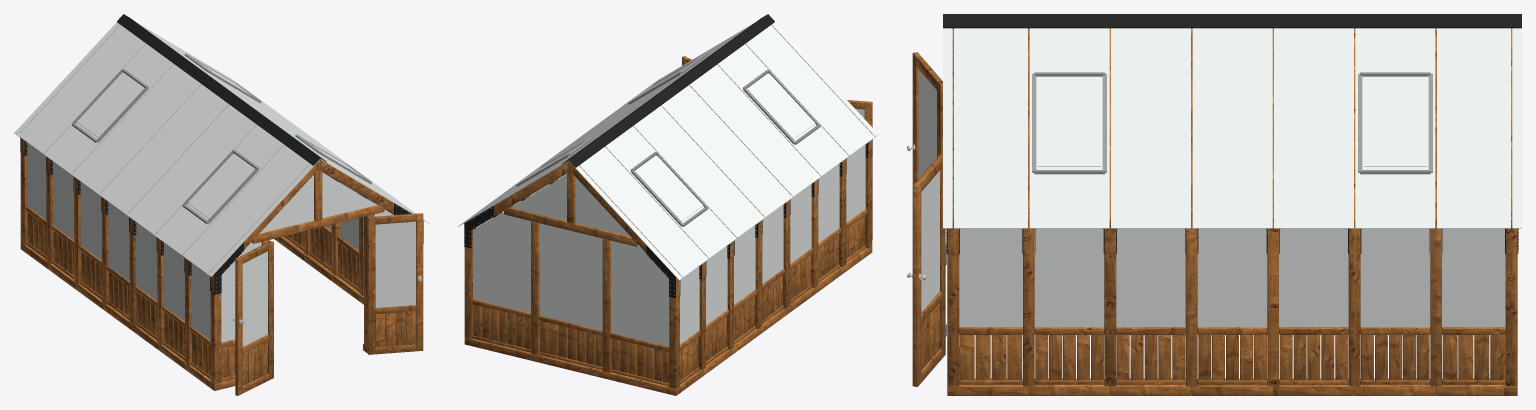
The model's file is nordwood-classic.glb.
3 renders of one model, left to right at view 1: azimuth 30°, elevation 25°; view 2: azimuth 150°, elevation 25°; view 3: azimuth 270°, elevation 25°, orthographic. The views are drawn at different scales.
Visible parts, largest first — view 1: nordwood-classic; view 2: nordwood-classic; view 3: nordwood-classic.
Part boxes in pixels (left/top/right/bottom): nordwood-classic: left=14, top=14, right=429, bottom=395; nordwood-classic: left=458, top=14, right=878, bottom=395; nordwood-classic: left=907, top=14, right=1521, bottom=395.
Size of the model in its own units: 3.13 by 2.87 by 5.2.
Materials: 7 (3 with a texture image).
